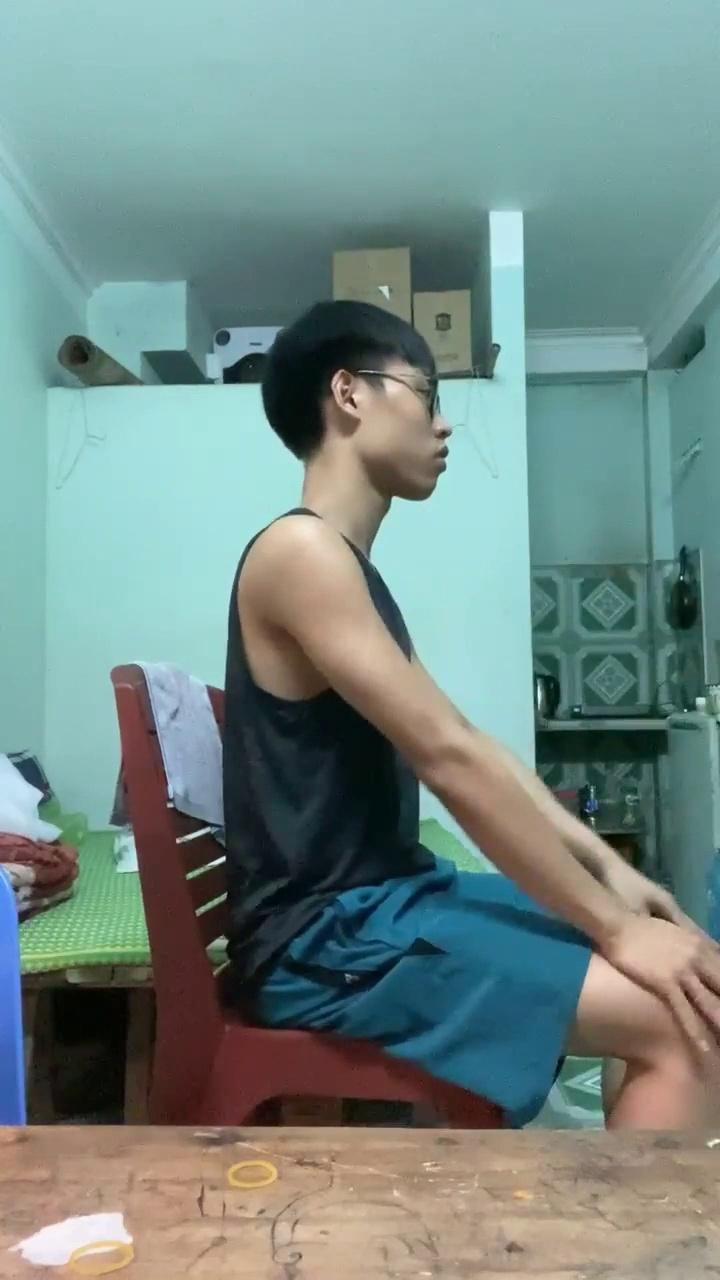GoodPosture: (225, 301, 719, 1132)
